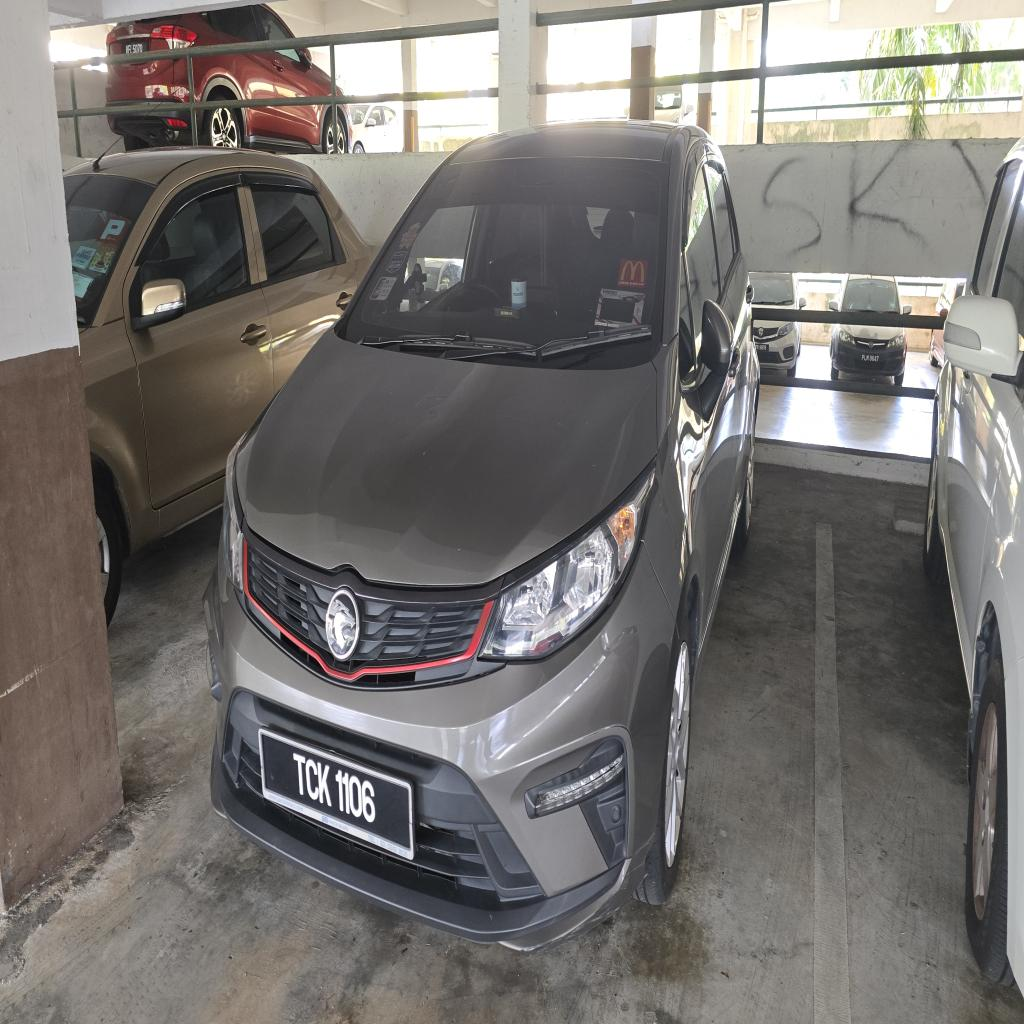car: (205, 124, 758, 948)
car plate: (259, 729, 414, 859)
